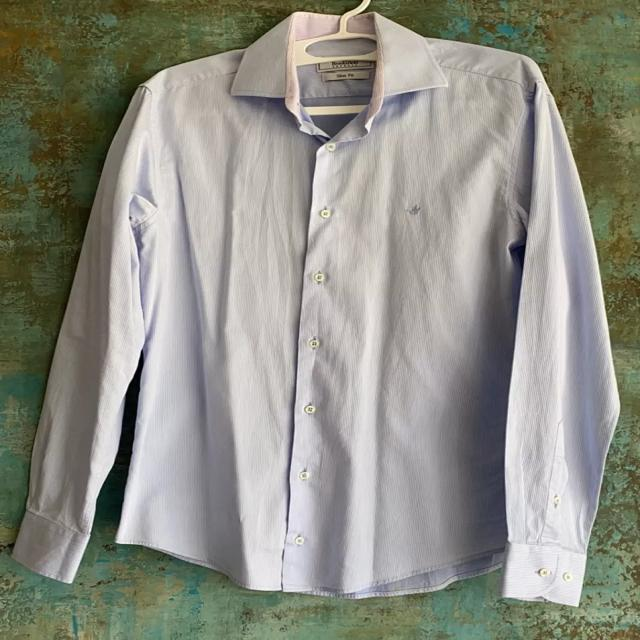long sleeve shirt: (10, 7, 623, 609)
